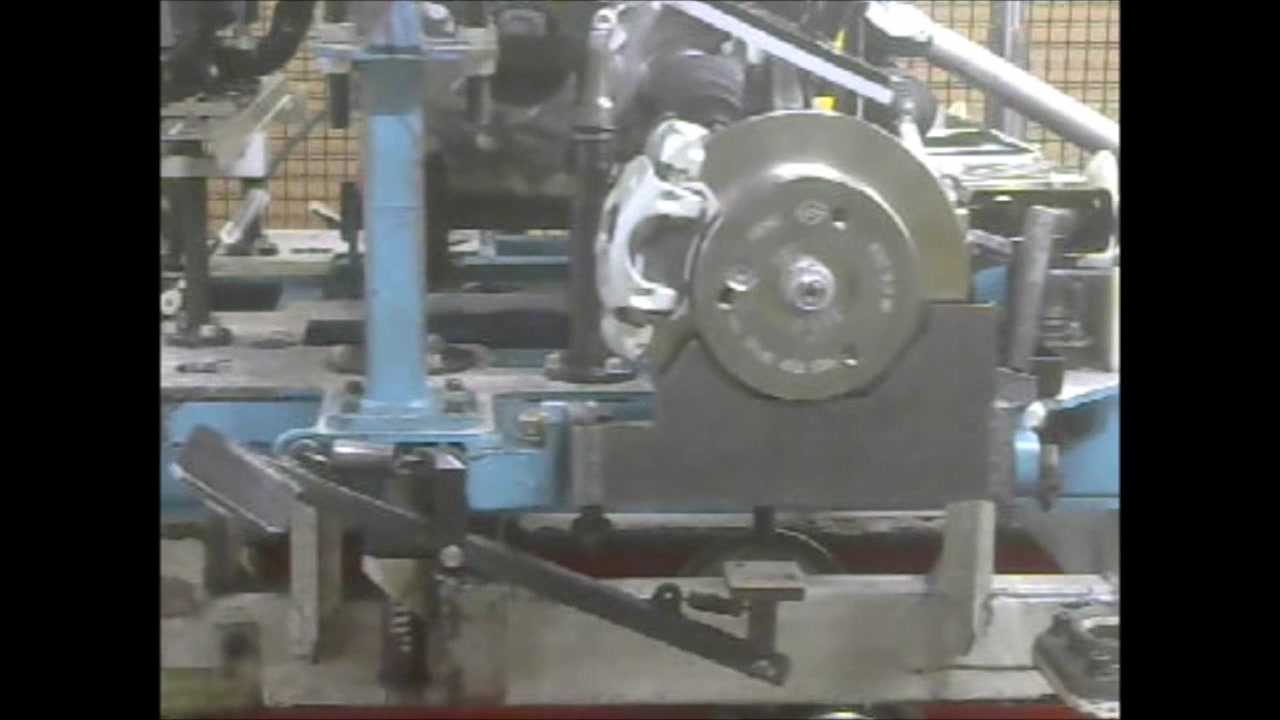DD1: (714, 109, 973, 409)
P1: (591, 116, 714, 361)
